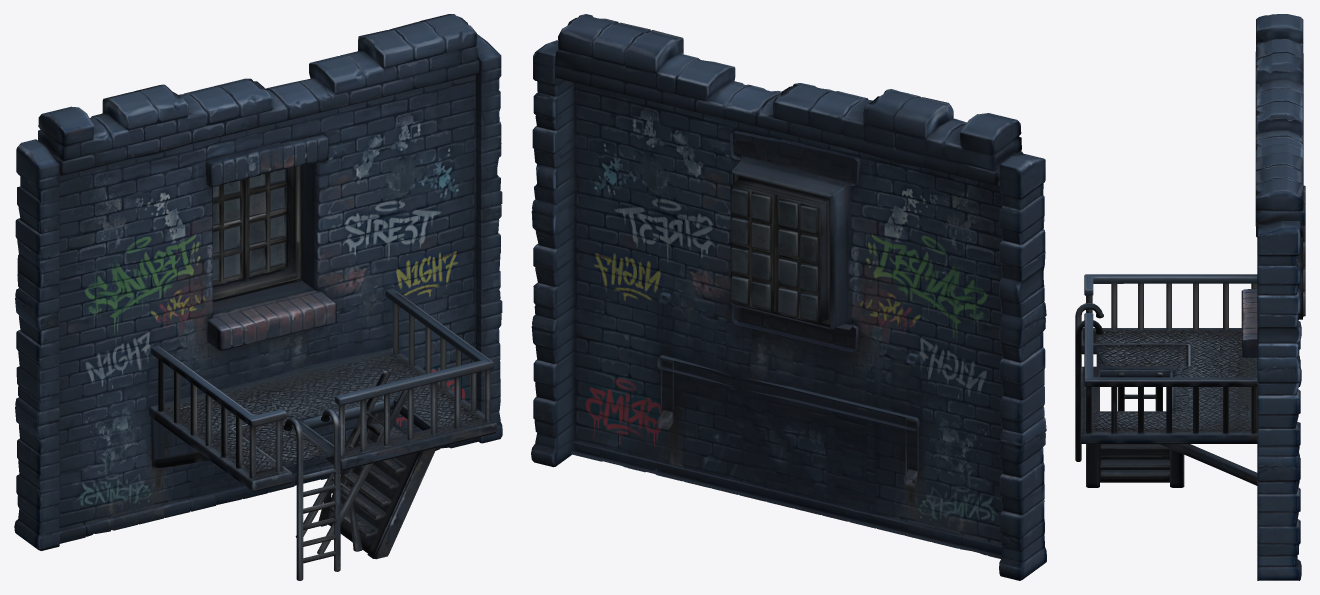
Rendered from SM_BrickWall.fbx.
The picture shows the model from 3 angles, left to right: view 1: azimuth 30°, elevation 25°; view 2: azimuth 150°, elevation 25°; view 3: azimuth 270°, elevation 25°; orthographic projection. The views are drawn at different scales.
Visible parts, largest first — view 1: c9092fdf_2f4f_451b_8752_e4c4571fb17e; view 2: c9092fdf_2f4f_451b_8752_e4c4571fb17e; view 3: c9092fdf_2f4f_451b_8752_e4c4571fb17e.
Part boxes in pixels (x1,y1,x2,y2): c9092fdf_2f4f_451b_8752_e4c4571fb17e: [14, 14, 502, 580]; c9092fdf_2f4f_451b_8752_e4c4571fb17e: [531, 14, 1046, 580]; c9092fdf_2f4f_451b_8752_e4c4571fb17e: [1075, 14, 1305, 580].
Bounding box in the file's own units: 0.9995 × 0.8599 × 0.4751.
Materials: 1 (1 with a texture image).
